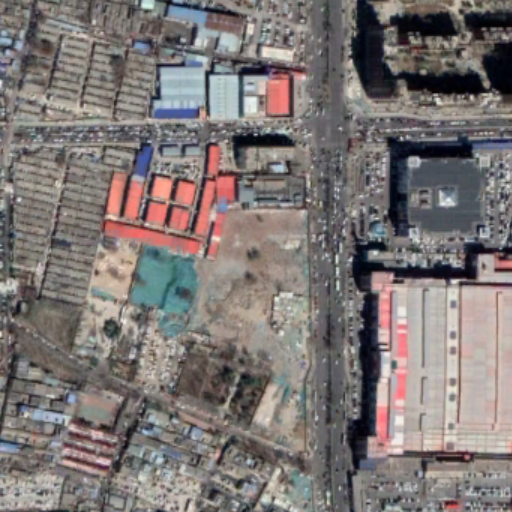cw: (69, 204, 314, 455)
